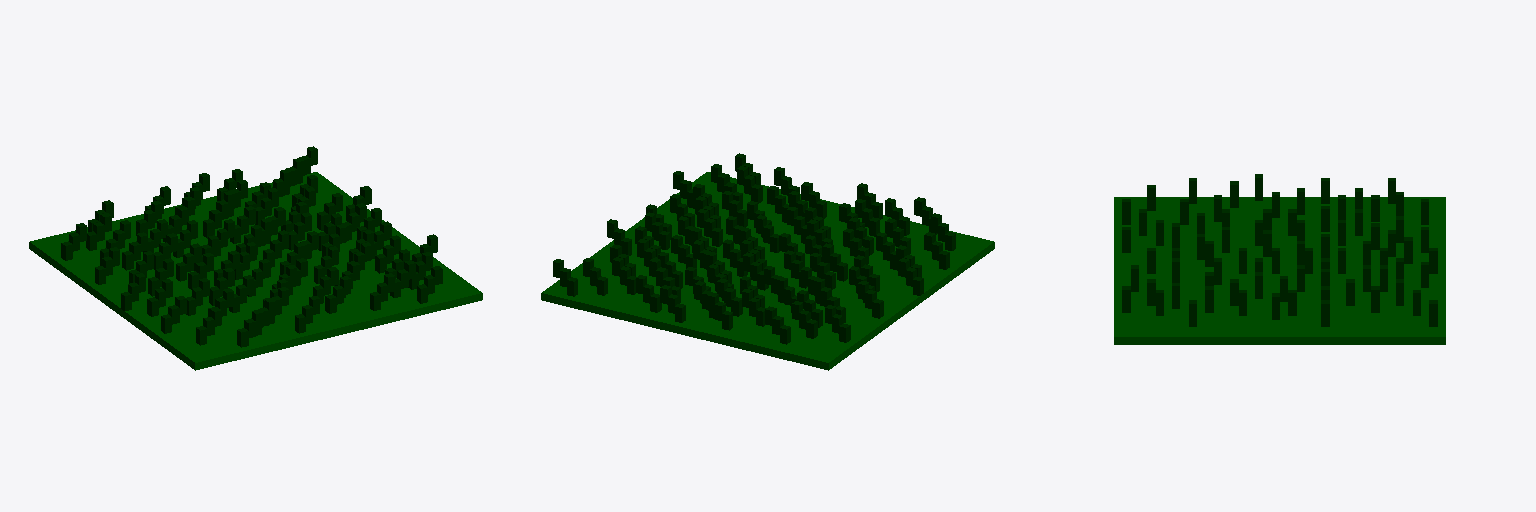
The picture shows the model from 3 angles: view 1: azimuth 30°, elevation 25°; view 2: azimuth 150°, elevation 25°; view 3: azimuth 270°, elevation 25°; orthographic projection.
Parts seen in each view (by area): view 1: object 1; view 2: object 1; view 3: object 1.
Part boxes in pixels (left/top/right/bottom): object 1: left=29, top=146, right=482, bottom=370; object 1: left=541, top=153, right=994, bottom=370; object 1: left=1114, top=174, right=1445, bottom=344.
Size of the model in its own units: 4 by 0.5 by 4.
1 materials, 1 textured.